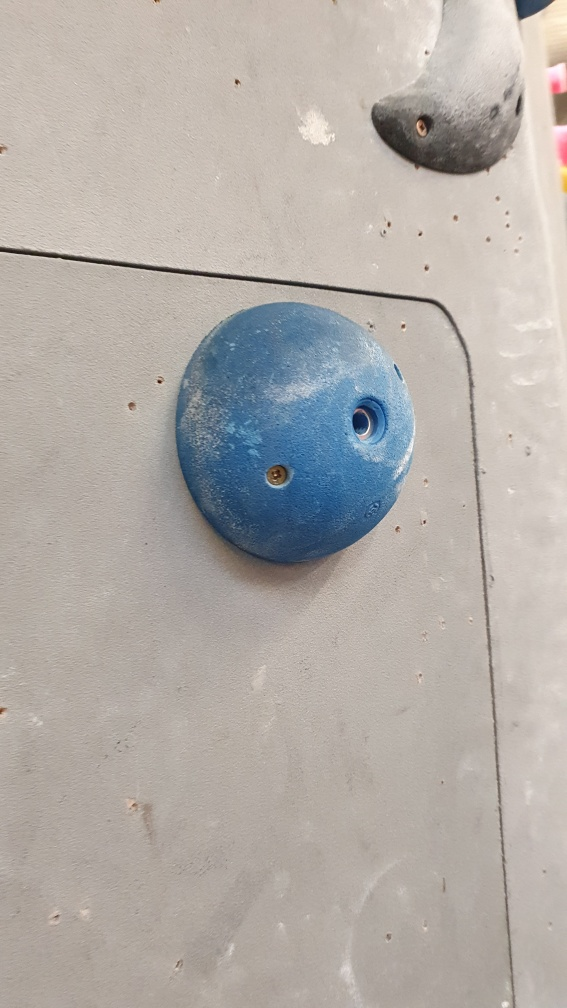Sloper: (172, 297, 421, 571)
